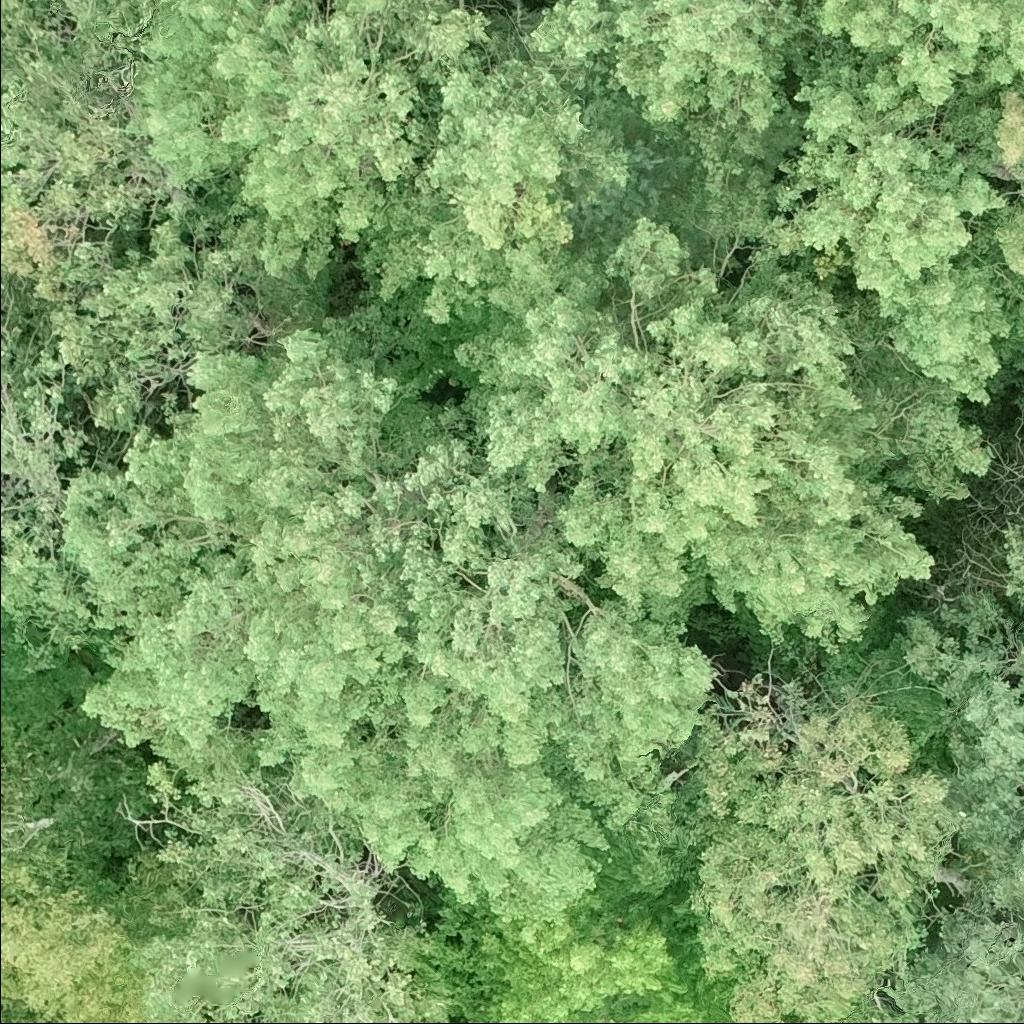crown: (53, 310, 707, 925), (449, 119, 990, 659), (633, 662, 963, 1023), (131, 0, 494, 328), (350, 0, 633, 388), (134, 709, 464, 1023), (759, 38, 1021, 407), (429, 822, 729, 1023), (0, 275, 133, 668), (0, 0, 175, 298), (36, 215, 259, 434), (897, 521, 1023, 908), (521, 0, 818, 148), (809, 0, 1023, 112), (0, 878, 144, 1023), (888, 877, 1023, 1023), (972, 85, 1023, 337), (0, 774, 75, 919)
